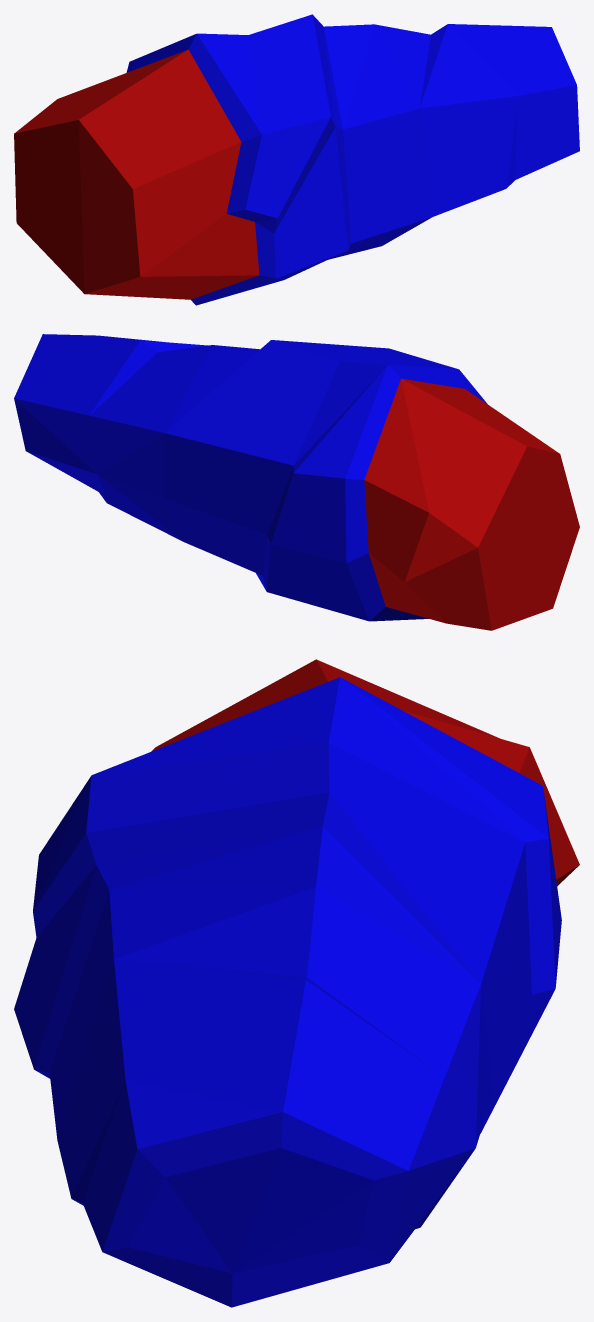
Rendered from Chr_ArmLowerLeft_Male_Static_03.fbx.
3 renders of one model, top to bottom at view 1: azimuth 30°, elevation 25°; view 2: azimuth 150°, elevation 25°; view 3: azimuth 270°, elevation 25°, orthographic. The views are drawn at different scales.
Visible parts, largest first — view 1: Chr_ArmLowerLeft_Male_03; view 2: Chr_ArmLowerLeft_Male_03; view 3: Chr_ArmLowerLeft_Male_03.
Boxes of the visible parts, bbox=[...] form: Chr_ArmLowerLeft_Male_03: bbox=[14, 14, 579, 305]; Chr_ArmLowerLeft_Male_03: bbox=[14, 334, 579, 630]; Chr_ArmLowerLeft_Male_03: bbox=[14, 659, 579, 1307].
Bounding box in the file's own units: 29.09 × 14.42 × 15.75.
